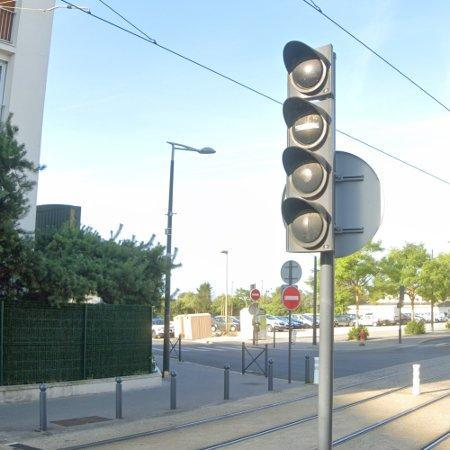traffic lights: (280, 39, 338, 249)
